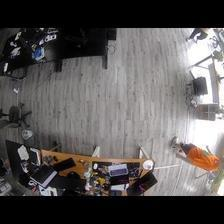normal: (170, 136, 224, 171)
